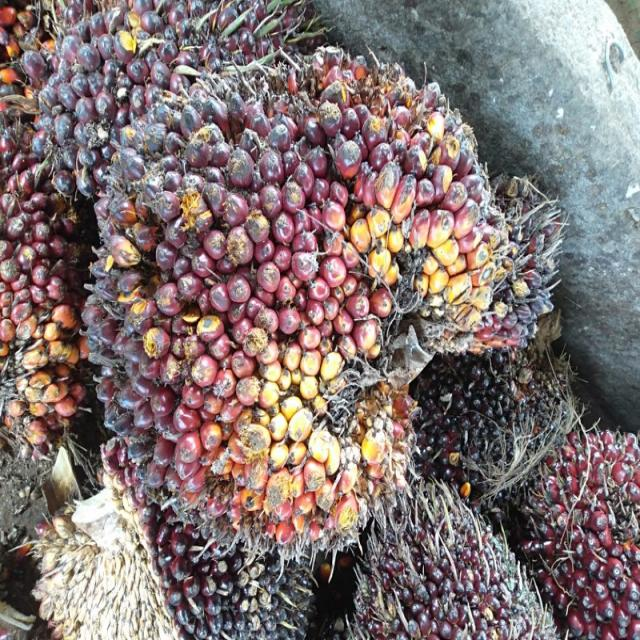fraksi 1: (54, 11, 553, 546)
